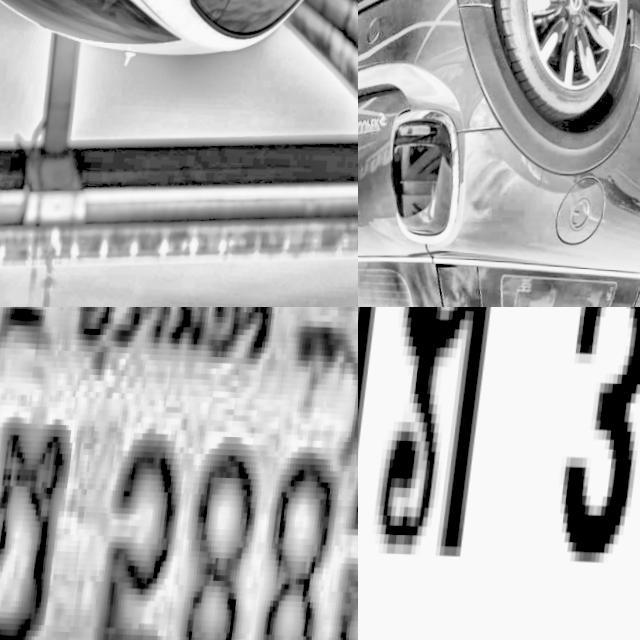license-plate: (0, 307, 358, 640), (358, 307, 640, 640)
